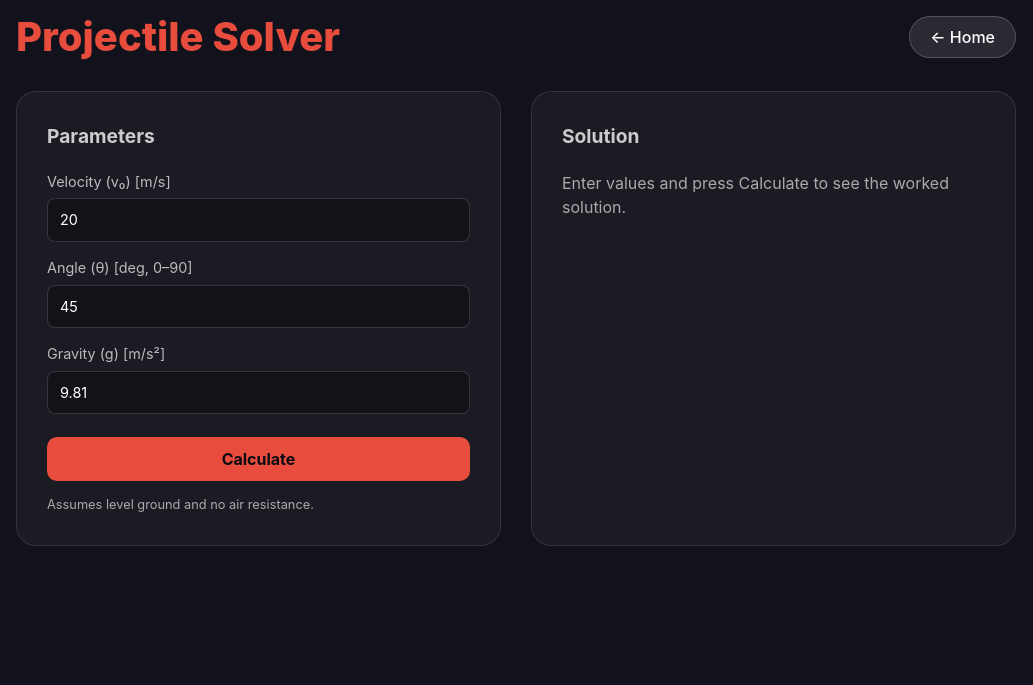
Test case: solver pages: output and validation messages › projectile: valid input gives range, height and time with numbered steps
Click the button "Calculate" at [258, 459], box [47, 437, 470, 481]
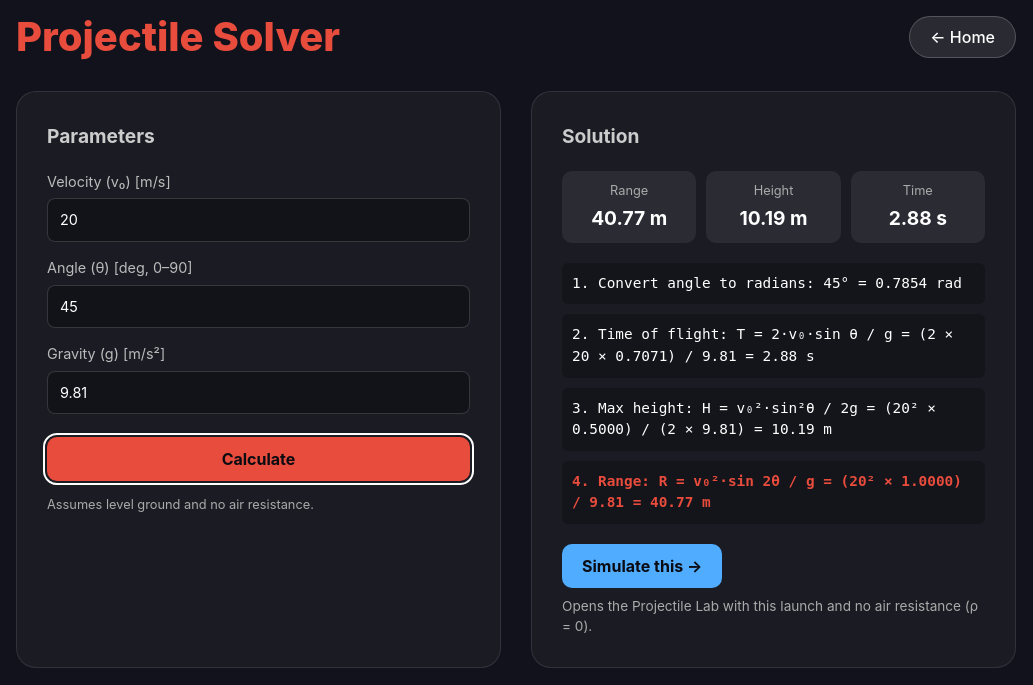
Check: the text "40.77 m" is shown, box [591, 206, 667, 230]
Check: the text "10.19 m" is shown, box [739, 206, 808, 230]
